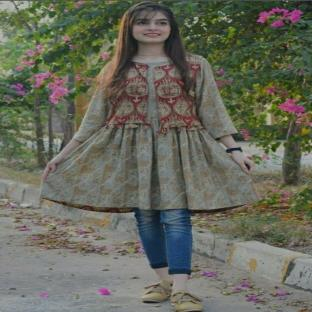Human: (41, 2, 259, 312)
